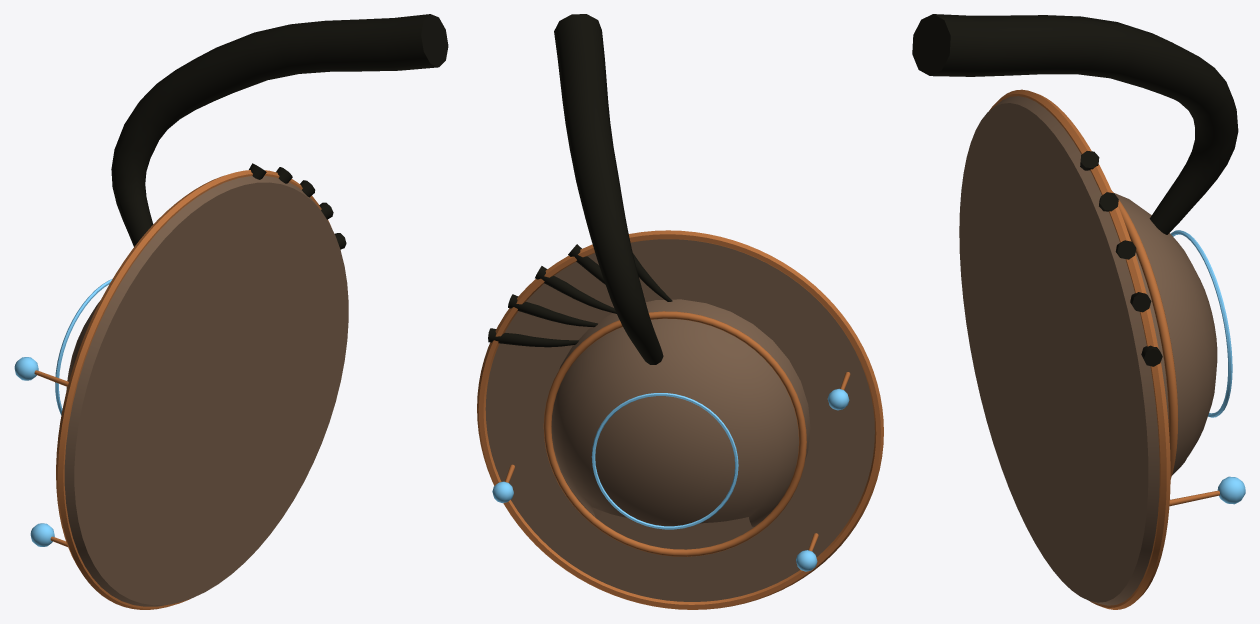
Rendered from wurzellabor.obj.
3 views of the same model, side by side, from view 1: azimuth 30°, elevation 25°; view 2: azimuth 150°, elevation 25°; view 3: azimuth 270°, elevation 25° (orthographic). The views are drawn at different scales.
Parts seen in each view (by area): view 1: Wurzellabor; view 2: Wurzellabor; view 3: Wurzellabor.
Part boxes in pixels (x1,y1,x2,y2): Wurzellabor: (14,14,448,609); Wurzellabor: (477,14,883,609); Wurzellabor: (912,14,1245,609).
Bounding box in the file's own units: 17.82 × 26.07 × 11.79.
